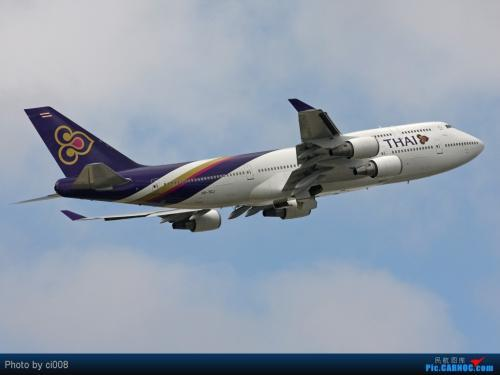airplane: (8, 83, 486, 237)
